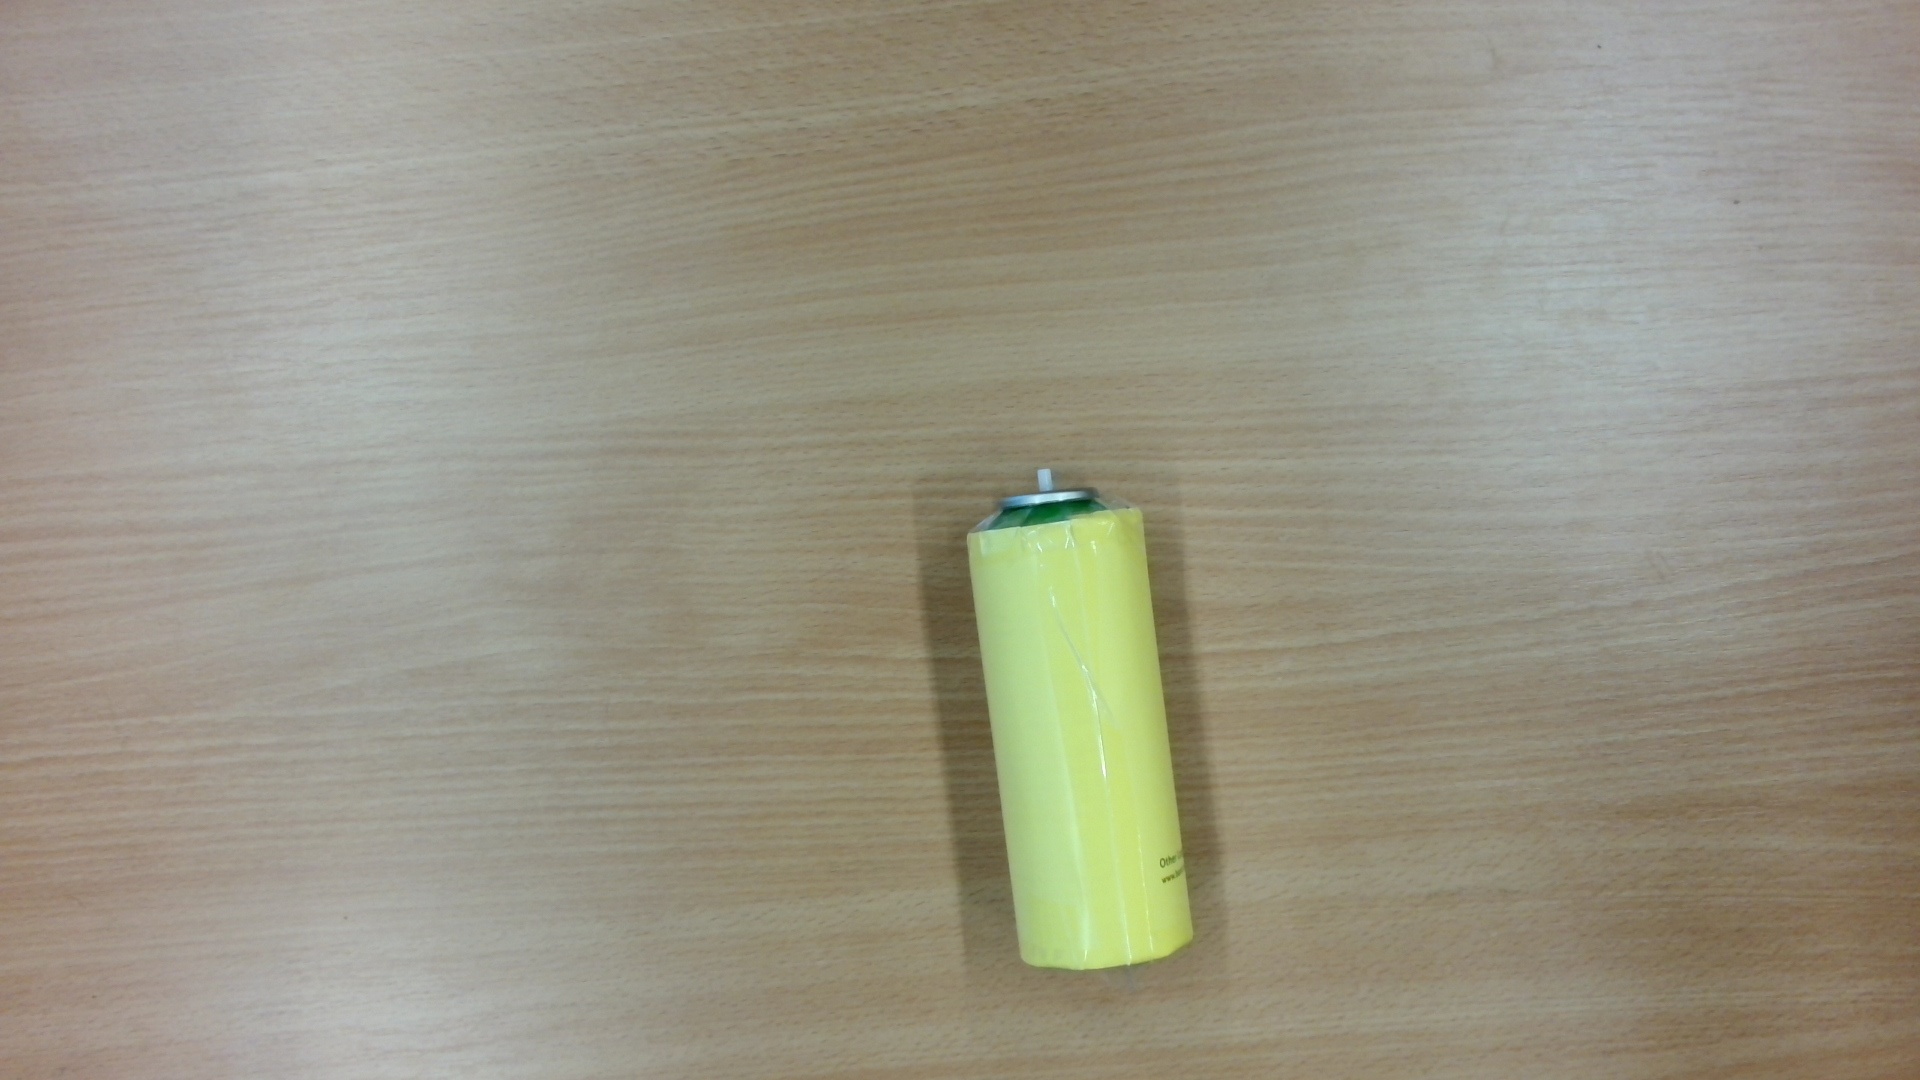Cylinder: (957, 456, 1215, 981)
